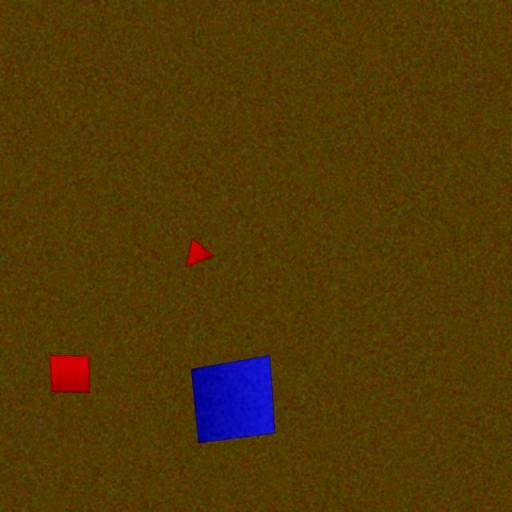BLUE_SQUARE: (190, 354, 276, 444)
RED_SQUARE: (49, 354, 90, 394)
